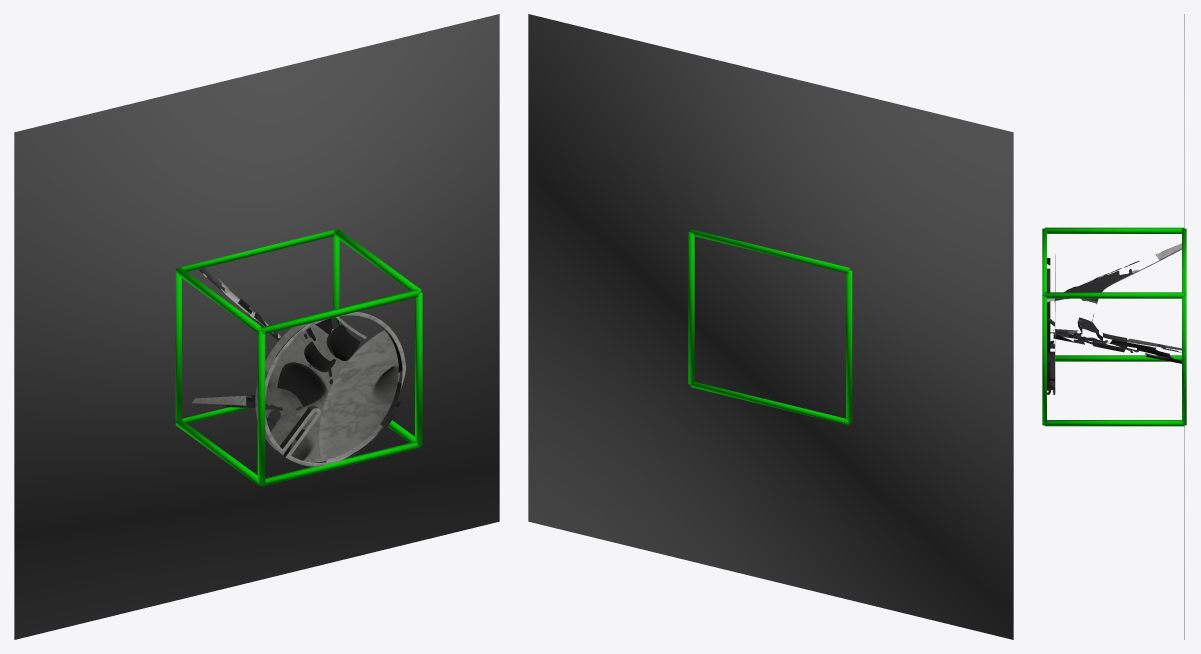
3 renders of one model, left to right at view 1: azimuth 30°, elevation 25°; view 2: azimuth 150°, elevation 25°; view 3: azimuth 270°, elevation 25°, orthographic. The views are drawn at different scales.
Bounding box in the file's own units: 2 × 2 × 0.614.
